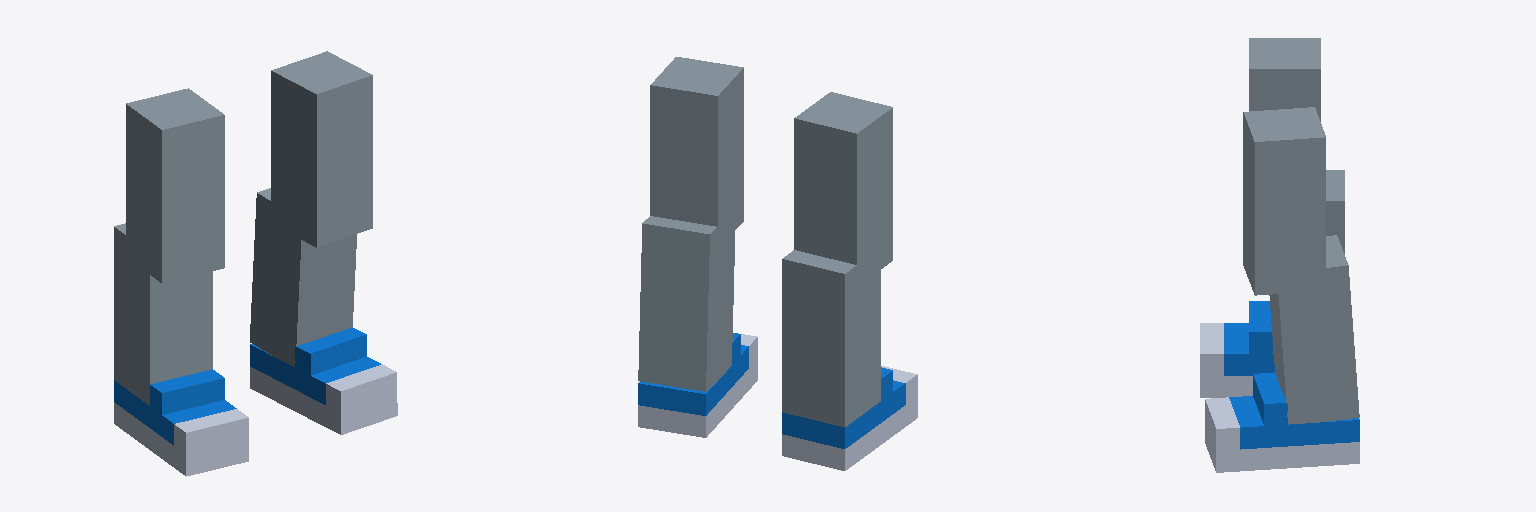
The picture shows the model from 3 angles: view 1: azimuth 30°, elevation 25°; view 2: azimuth 150°, elevation 25°; view 3: azimuth 270°, elevation 25°; orthographic projection.
Parts seen in each view (by area): view 1: Model; view 2: Model; view 3: Model.
Part boxes in pixels (bbox=[...]): Model: bbox=[114, 51, 397, 476]; Model: bbox=[638, 57, 917, 470]; Model: bbox=[1200, 38, 1359, 472].
Bounding box in the file's own units: 10.47 × 15.03 × 6.6.
1 materials, 1 textured.